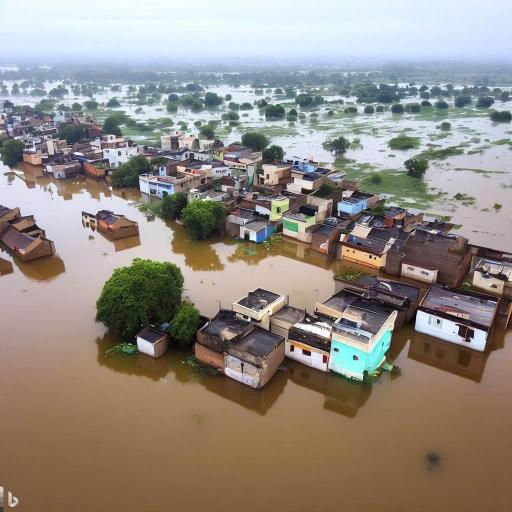flood: (0, 163, 512, 512), (208, 86, 512, 251), (88, 96, 227, 132), (94, 87, 126, 103), (56, 90, 88, 105), (0, 93, 40, 105), (494, 100, 512, 111), (44, 82, 57, 89)
house: (290, 287, 402, 383), (194, 286, 286, 388), (416, 286, 496, 346), (402, 229, 471, 291), (338, 227, 398, 272), (81, 207, 141, 247), (2, 213, 50, 263), (240, 189, 290, 233), (291, 156, 349, 190), (214, 143, 262, 179), (101, 132, 138, 168), (24, 135, 68, 165), (138, 168, 176, 202), (337, 189, 379, 219), (176, 163, 214, 193), (310, 221, 338, 257), (282, 212, 312, 242), (260, 161, 292, 187), (46, 157, 80, 181), (242, 220, 270, 246), (162, 134, 190, 154)
